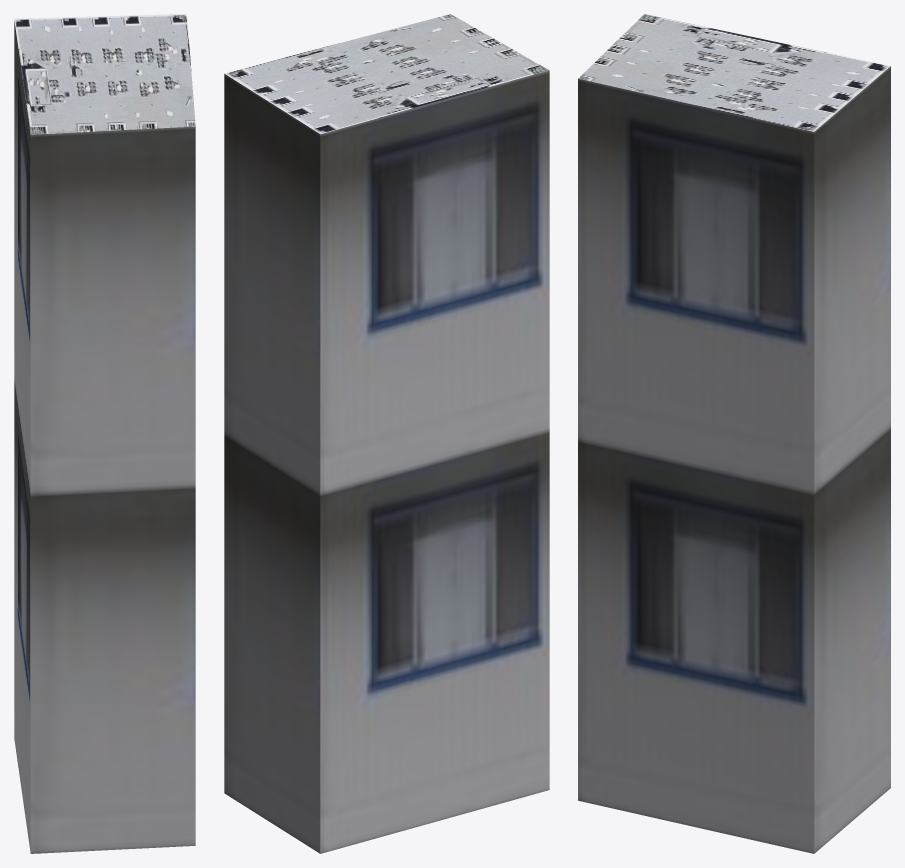
Rendered from ResTex__1201.fbx.
3 views of the same model, side by side, from view 1: azimuth 30°, elevation 25°; view 2: azimuth 150°, elevation 25°; view 3: azimuth 270°, elevation 25° (orthographic).
Visible parts, largest first — view 1: CityEngineMaterial_9_m, CityEngineMaterial_m; view 2: CityEngineMaterial_9_m, CityEngineMaterial_m; view 3: CityEngineMaterial_9_m, CityEngineMaterial_m.
Boxes of the visible parts, x1=… form: CityEngineMaterial_9_m: x1=14, y1=20, x2=195, y2=853; CityEngineMaterial_m: x1=14, y1=14, x2=195, y2=134; CityEngineMaterial_9_m: x1=224, y1=70, x2=549, y2=853; CityEngineMaterial_m: x1=224, y1=14, x2=549, y2=134; CityEngineMaterial_9_m: x1=578, y1=66, x2=890, y2=853; CityEngineMaterial_m: x1=578, y1=14, x2=890, y2=131.
Bounding box in the file's own units: 2.1 × 6 × 2.36.
2 materials, 2 textured.
